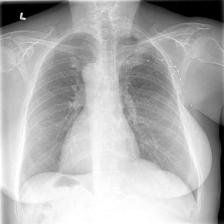normal: (15, 24, 204, 207)
